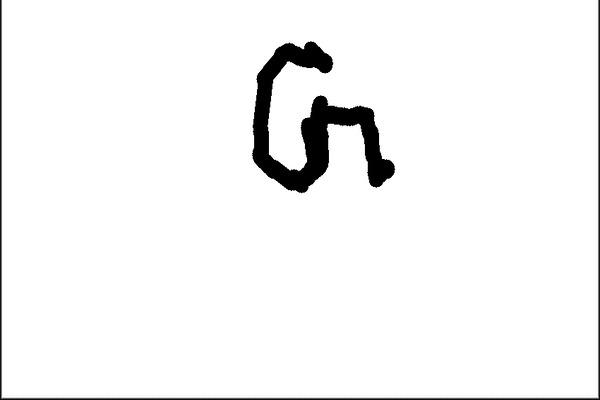G: (245, 36, 396, 197)
